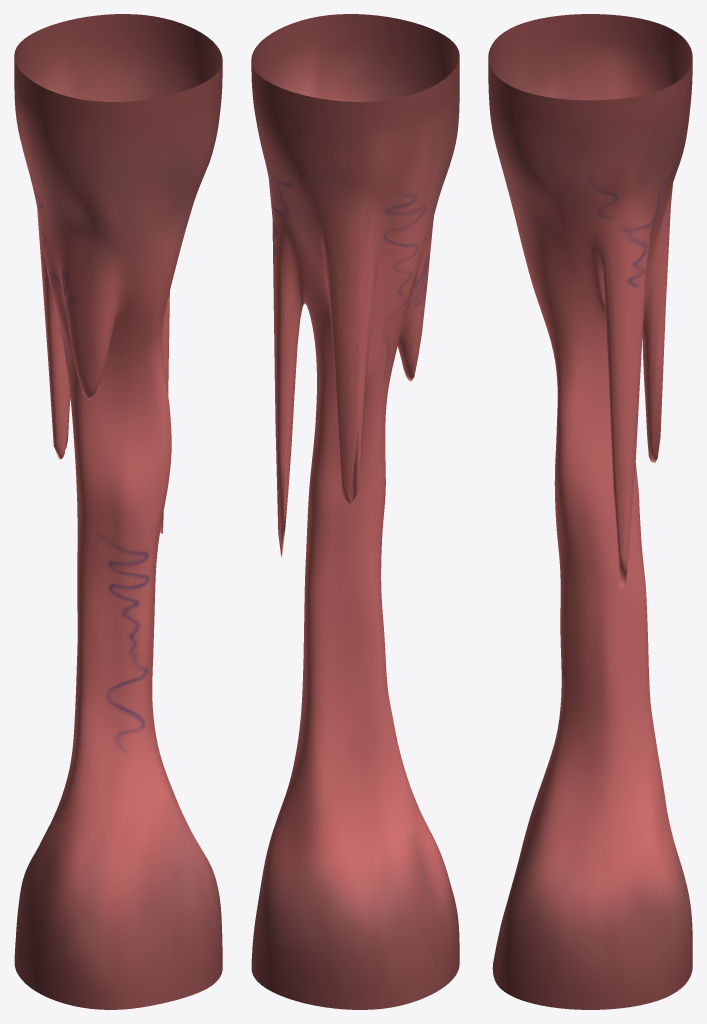
The model's file is cave_column_single.fbx.
The picture shows the model from 3 angles, left to right: view 1: azimuth 30°, elevation 25°; view 2: azimuth 150°, elevation 25°; view 3: azimuth 270°, elevation 25°; orthographic projection.
Visible parts, largest first — view 1: cave_column_single; view 2: cave_column_single; view 3: cave_column_single.
Boxes of the visible parts, left/top/right/bottom form: cave_column_single: left=14, top=14, right=222, bottom=1009; cave_column_single: left=251, top=14, right=459, bottom=1009; cave_column_single: left=488, top=14, right=692, bottom=1009.
Size of the model in its own units: 61.11 by 300 by 61.11.
1 material, 1 textured.
